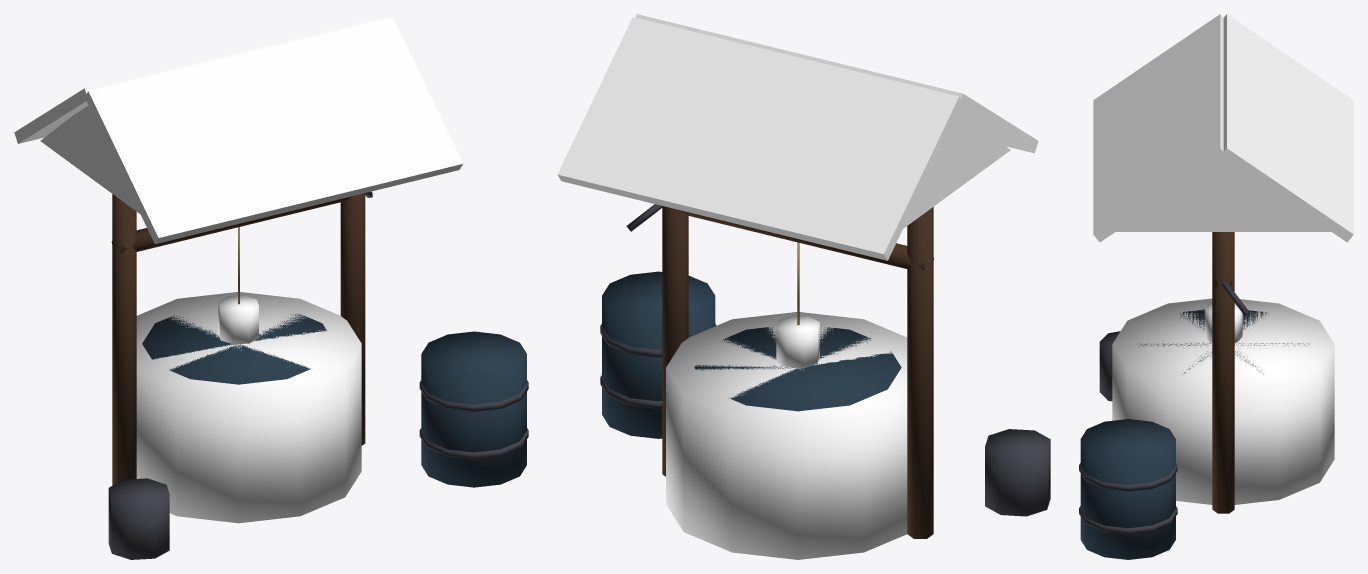
The model's file is studnia.glb.
The picture shows the model from 3 angles, left to right: view 1: azimuth 30°, elevation 25°; view 2: azimuth 150°, elevation 25°; view 3: azimuth 270°, elevation 25°; orthographic projection. The views are drawn at different scales.
Visible parts, largest first — view 1: studnia_10, studnia_1, studnia_13, studnia_3, studnia_2, studnia_16, studnia_4, studnia_12, studnia_9, studnia_7, studnia_5, studnia_14 (+1 smaller); view 2: studnia_9, studnia_1, studnia_13, studnia_3, studnia_2, studnia_16, studnia_4, studnia_12, studnia_10, studnia_7, studnia_5; view 3: studnia_1, studnia_9, studnia_10, studnia_13, studnia_11, studnia_4, studnia_16, studnia_2, studnia_15, studnia_14, studnia_7.
Part boxes in pixels (x1,y1,x2,y2): studnia_10: [85, 16, 462, 244]; studnia_1: [136, 292, 361, 523]; studnia_13: [421, 331, 526, 487]; studnia_3: [112, 194, 136, 485]; studnia_2: [142, 313, 326, 384]; studnia_16: [108, 478, 169, 559]; studnia_4: [340, 193, 365, 445]; studnia_12: [40, 106, 140, 214]; studnia_9: [14, 14, 389, 143]; studnia_7: [218, 295, 258, 344]; studnia_5: [111, 193, 364, 253]; studnia_14: [419, 428, 528, 459]; studnia_9: [557, 17, 962, 260]; studnia_1: [666, 312, 907, 559]; studnia_13: [602, 271, 715, 438]; studnia_3: [907, 207, 933, 538]; studnia_2: [694, 327, 901, 411]; studnia_16: [985, 429, 1050, 516]; studnia_4: [662, 206, 688, 476]; studnia_12: [903, 112, 1010, 228]; studnia_10: [635, 14, 1038, 153]; studnia_7: [776, 315, 819, 368]; studnia_5: [663, 206, 934, 270]; studnia_1: [1112, 298, 1334, 504]; studnia_9: [1220, 14, 1353, 242]; studnia_10: [1093, 14, 1225, 242]; studnia_13: [1080, 419, 1175, 559]; studnia_11: [1116, 158, 1330, 231]; studnia_4: [1212, 232, 1234, 513]; studnia_16: [1099, 331, 1120, 401]; studnia_2: [1137, 309, 1309, 374]; studnia_15: [1079, 463, 1177, 491]; studnia_14: [1079, 506, 1177, 534]; studnia_7: [1204, 302, 1242, 342].
Bounding box in the file's own units: 2.69 × 2.63 × 1.73.
